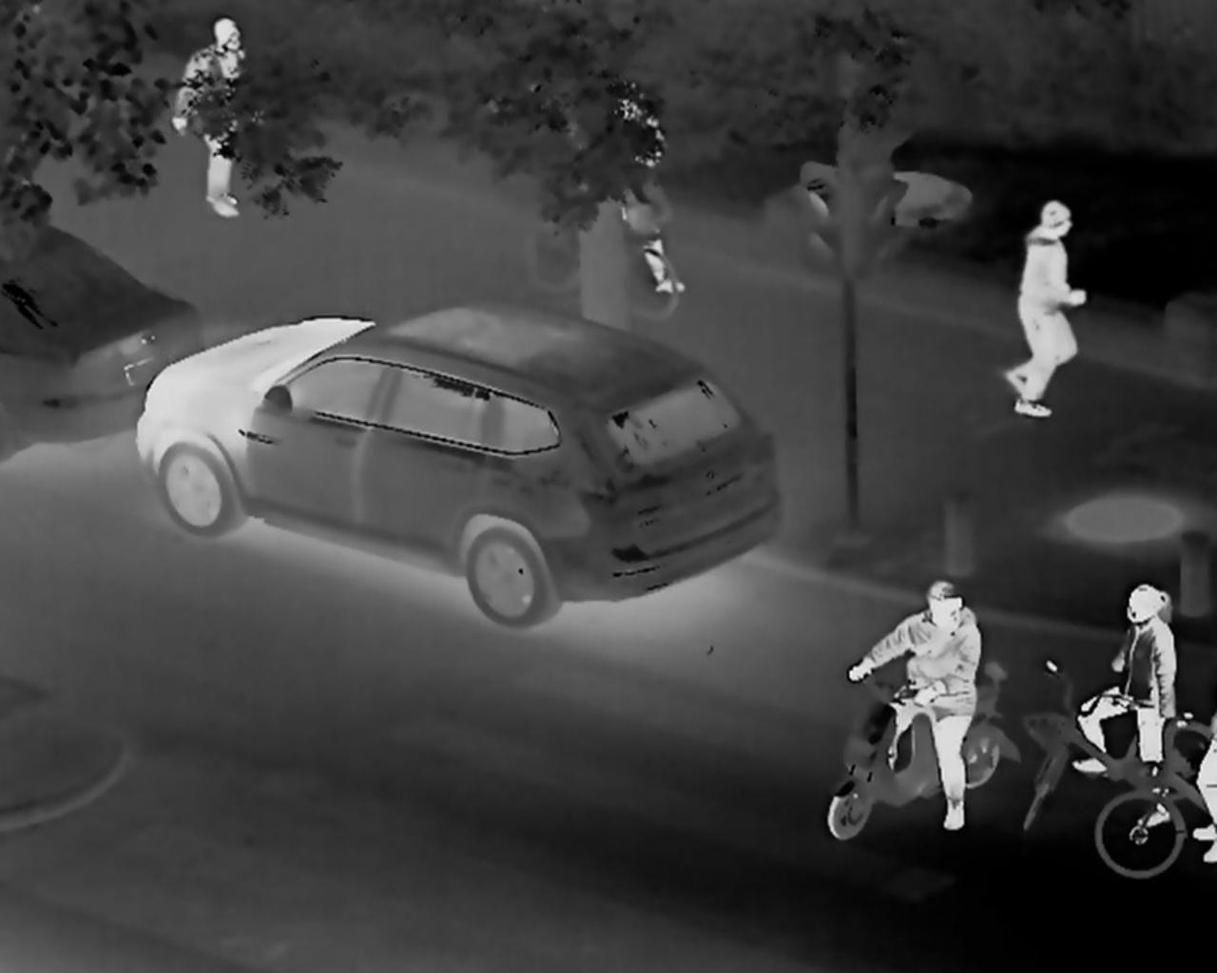person: (843, 570, 974, 832), (1060, 576, 1179, 826), (1000, 191, 1084, 423), (171, 17, 256, 222), (612, 87, 686, 296)
